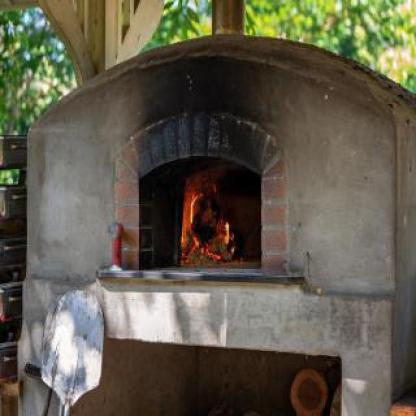fire: (180, 171, 240, 262)
